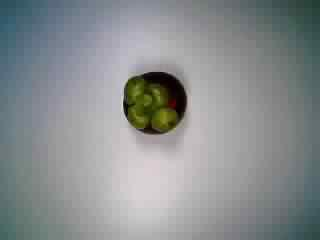mangosteen: (116, 64, 195, 139)
